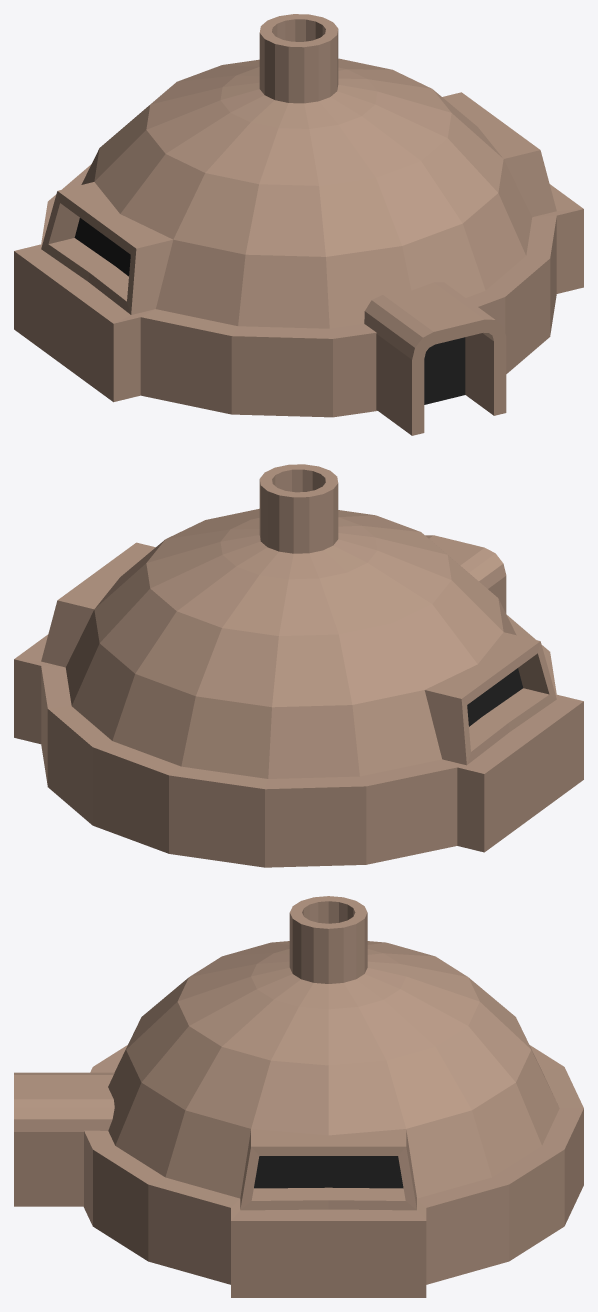
File: house_1.fbx
3 renders of one model, top to bottom at view 1: azimuth 30°, elevation 25°; view 2: azimuth 150°, elevation 25°; view 3: azimuth 270°, elevation 25°, orthographic.
Parts seen in each view (by area): view 1: Cube.007; view 2: Cube.007; view 3: Cube.007.
Boxes of the visible parts, box(x1,y1,x2,y2) form: Cube.007: box(14, 14, 583, 435); Cube.007: box(14, 464, 583, 867); Cube.007: box(14, 896, 583, 1297).
Bounding box in the file's own units: 1358 × 766 × 1451.
